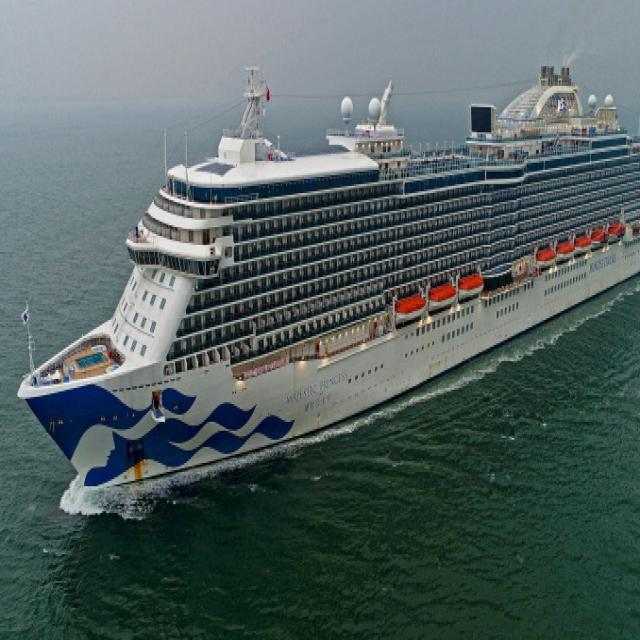cruises: (7, 25, 640, 485)
